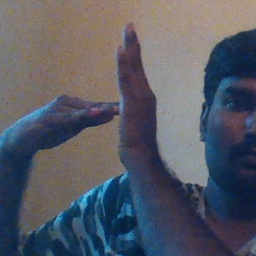Z: (46, 21, 157, 164)
